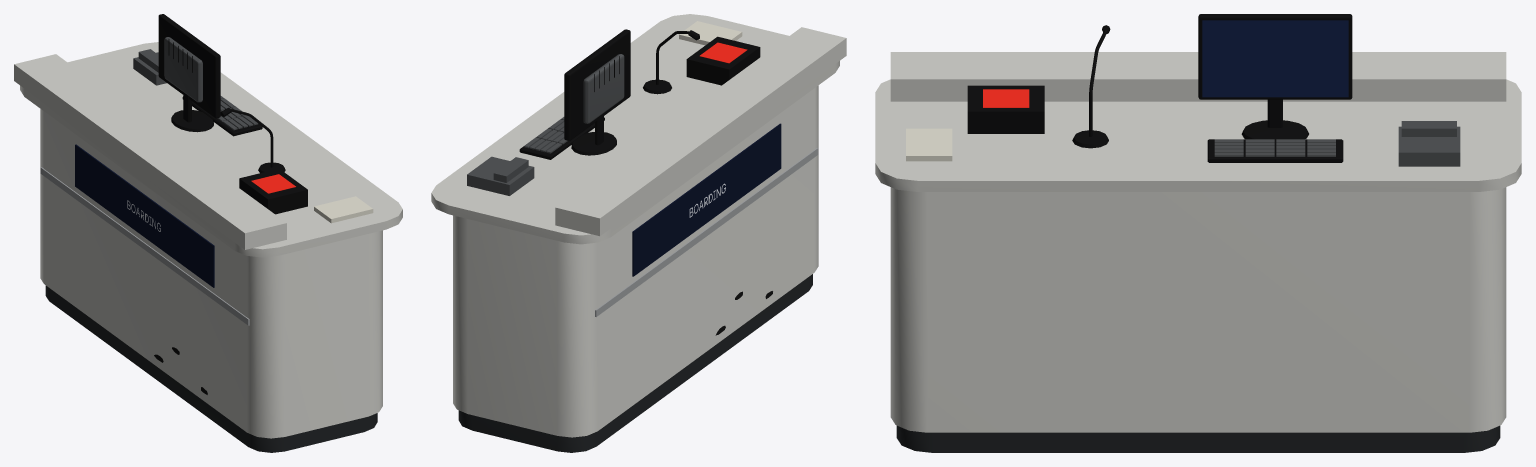
The model's file is gate_counter.glb.
3 views of the same model, side by side, from view 1: azimuth 30°, elevation 25°; view 2: azimuth 150°, elevation 25°; view 3: azimuth 270°, elevation 25° (orthographic). The views are drawn at different scales.
Visible parts, largest first — view 1: gate_1, gate_4, gate_3, gate_5, gate_0, gate_6, gate_2, gate_10, gate_9; view 2: gate_1, gate_4, gate_3, gate_5, gate_0, gate_6, gate_2, gate_10, gate_9; view 3: gate_1, gate_4, gate_0, gate_7, gate_5, gate_6, gate_10, gate_9.
Boxes of the visible parts, <box> form: gate_1: <box>40,109,382,438</box>; gate_4: <box>14,42,402,257</box>; gate_3: <box>75,144,214,287</box>; gate_5: <box>158,14,307,214</box>; gate_0: <box>45,285,377,452</box>; gate_6: <box>133,37,258,130</box>; gate_2: <box>40,167,249,325</box>; gate_10: <box>314,196,373,223</box>; gate_9: <box>251,174,295,193</box>; gate_1: <box>453,85,818,437</box>; gate_4: <box>431,14,846,244</box>; gate_3: <box>632,123,781,276</box>; gate_5: <box>519,29,760,159</box>; gate_0: <box>458,274,812,452</box>; gate_6: <box>467,54,624,195</box>; gate_2: <box>595,148,818,316</box>; gate_10: <box>679,21,742,45</box>; gate_9: <box>699,42,747,63</box>; gate_1: <box>890,187,1506,432</box>; gate_4: <box>875,52,1521,191</box>; gate_0: <box>896,425,1500,452</box>; gate_7: <box>1202,20,1348,97</box>; gate_5: <box>967,14,1352,162</box>; gate_6: <box>1214,121,1460,166</box>; gate_10: <box>906,128,952,161</box>; gate_9: <box>983,89,1029,107</box>.
Bounding box in the file's own units: 0.82 × 1.44 × 2.1.
